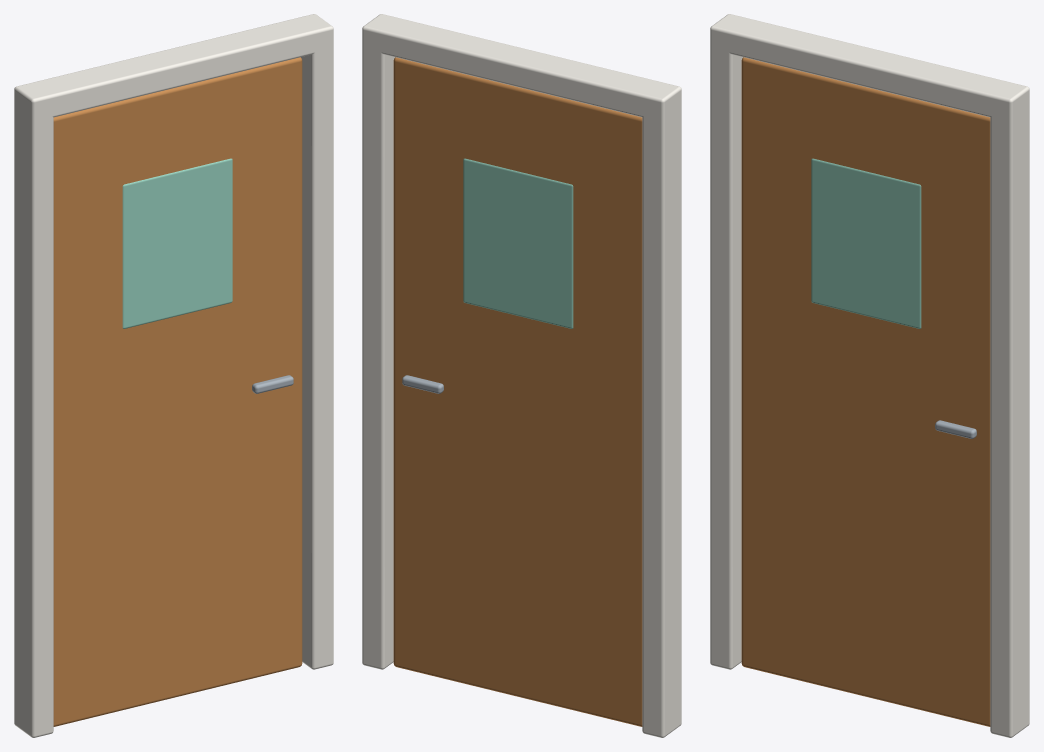
File: porta_escritorio.glb
The picture shows the model from 3 angles, left to right: view 1: azimuth 30°, elevation 25°; view 2: azimuth 150°, elevation 25°; view 3: azimuth 330°, elevation 25°; orthographic projection.
Parts seen in each view (by area): view 1: madeira, batente (×3), visor; view 2: madeira, batente (×3), visor; view 3: madeira, batente (×3), visor.
Part boxes in pixels (left/top/right/bottom): madeira: left=53, top=57, right=302, bottom=726; batente (×3): left=14, top=14, right=333, bottom=737; visor: left=122, top=158, right=232, bottom=328; madeira: left=393, top=57, right=642, bottom=726; batente (×3): left=362, top=14, right=681, bottom=737; visor: left=463, top=158, right=573, bottom=328; madeira: left=741, top=57, right=990, bottom=726; batente (×3): left=710, top=14, right=1029, bottom=737; visor: left=811, top=158, right=921, bottom=328.
Size of the model in its own units: 1.08 by 2.18 by 0.12.
